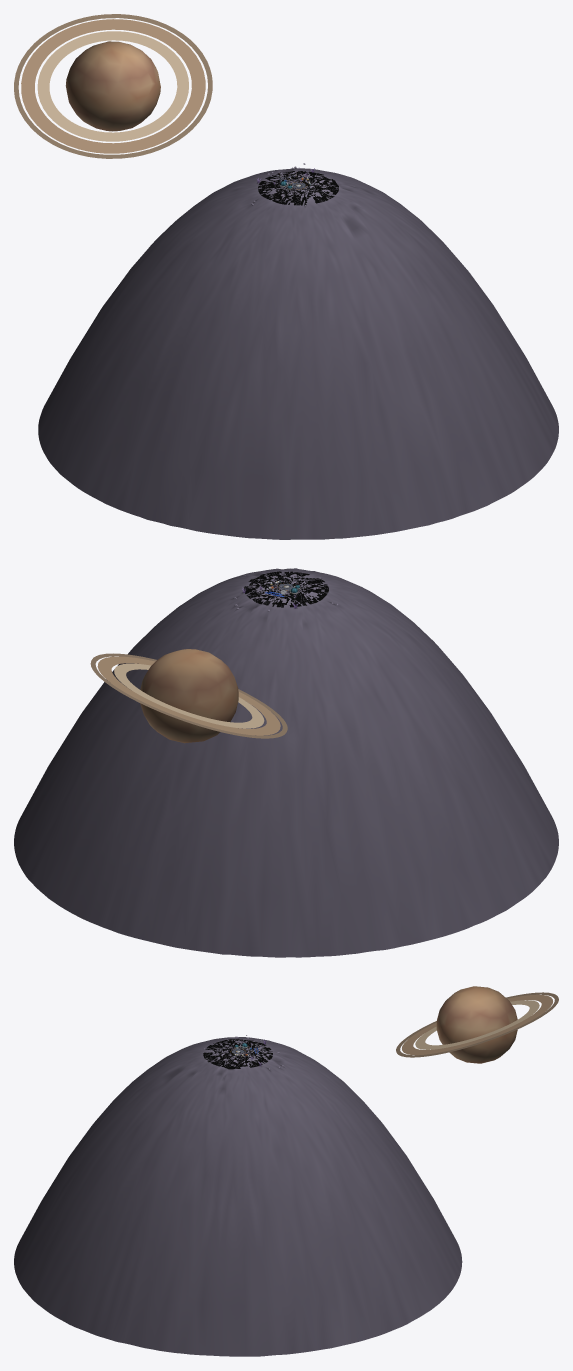
File: era5.lo.glb
3 renders of one model, top to bottom at view 1: azimuth 30°, elevation 25°; view 2: azimuth 150°, elevation 25°; view 3: azimuth 270°, elevation 25°, orthographic. The views are drawn at different scales.
Parts seen in each view (by area): view 1: terrain, planet.001, grassmap; view 2: terrain, planet.001, grassmap; view 3: terrain, planet.001, grassmap.
Part boxes in pixels (x1,y1,x2,y2): terrain: (38, 168, 558, 539); planet.001: (14, 14, 212, 158); grassmap: (258, 171, 338, 205); terrain: (14, 568, 558, 957); planet.001: (90, 649, 287, 743); grassmap: (244, 571, 328, 607); terrain: (14, 1037, 462, 1356); planet.001: (396, 986, 558, 1063); grassmap: (203, 1039, 272, 1069).
Size of the model in its own units: 440 by 274 by 535.
